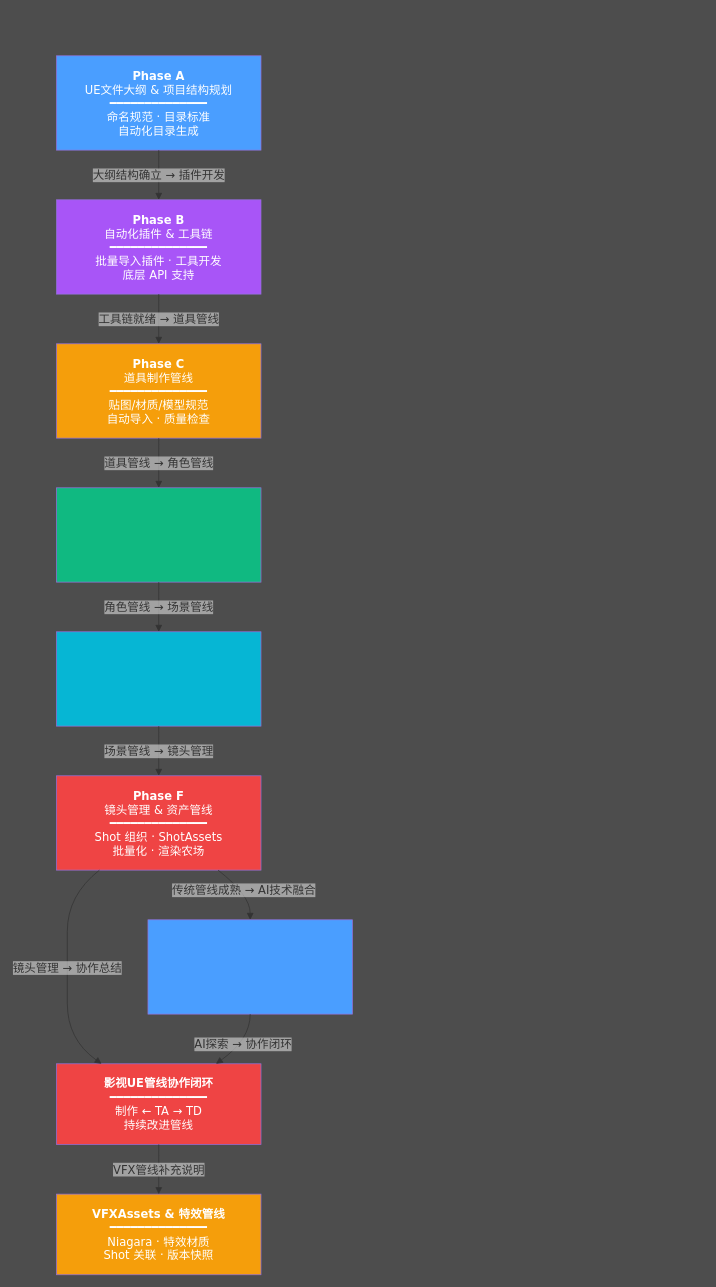
The diagram is 716 pixels wide and 1287 high, and some of its shapes have lost their labels. The box of each missing label's shape, as (x1, y1, x2, y2) in pixels:
Phase D 角色制作管线 ⭐ TA核心战场 ━━━━━━━━━━━━━━ 骨骼 · 蒙皮 · 毛发 Groom 解算 CFX · 动画管线: (56, 487, 261, 582)
Phase E 场景制作管线 ━━━━━━━━━━━━━━ PCG · 资产库 · 灯光 效果标准 · 后处理: (56, 631, 261, 726)
Phase G AI 技术融合 ━━━━━━━━━━━━━━ AI生成三视图 · 图生3D 智能场景摆放: (147, 919, 352, 1014)
